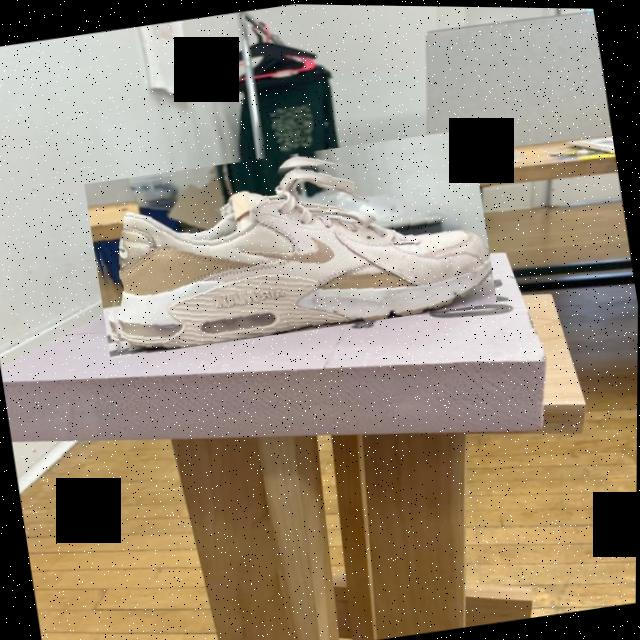shoe: (83, 123, 499, 363)
